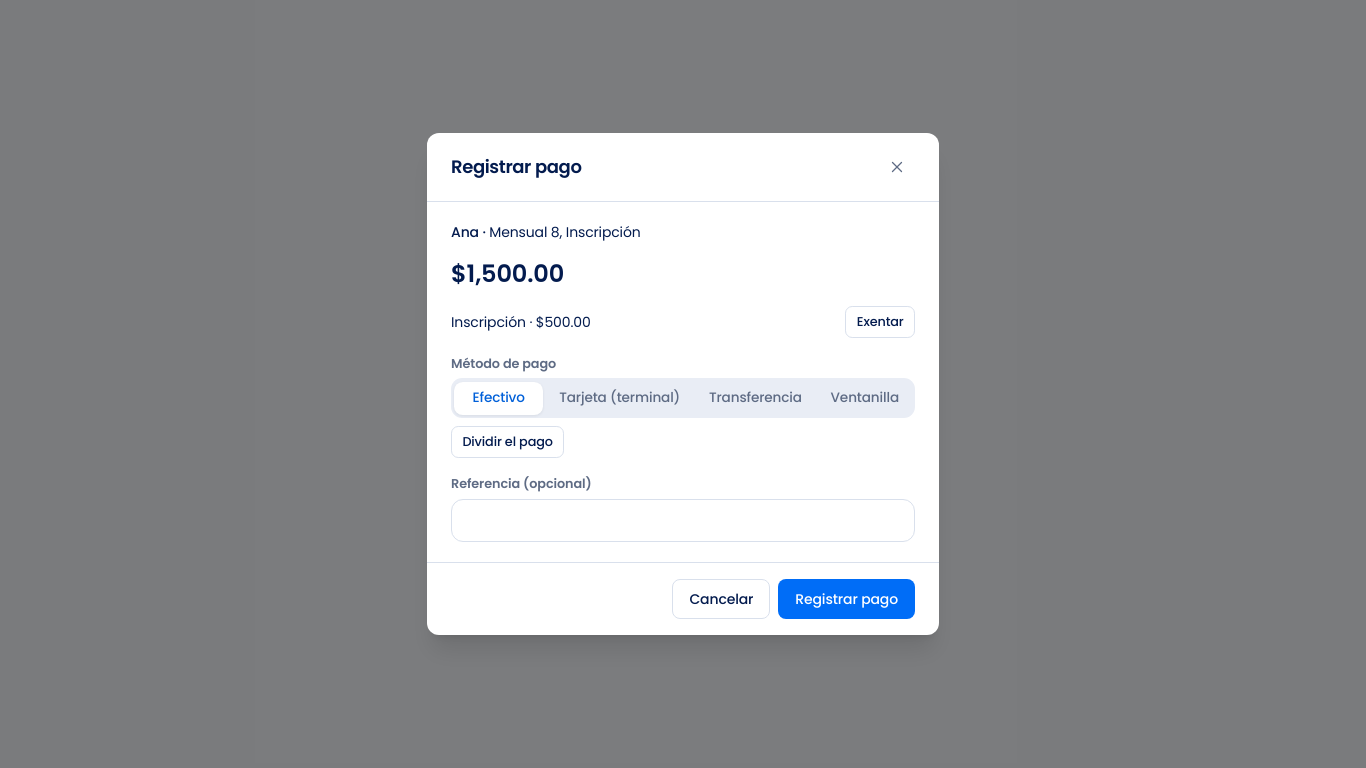
Test case: registrar pago con cuotas › exentar una cuota pide motivo y baja lo que se cobra
Click the button "Exentar": point(880, 322) [846,306,915,338]
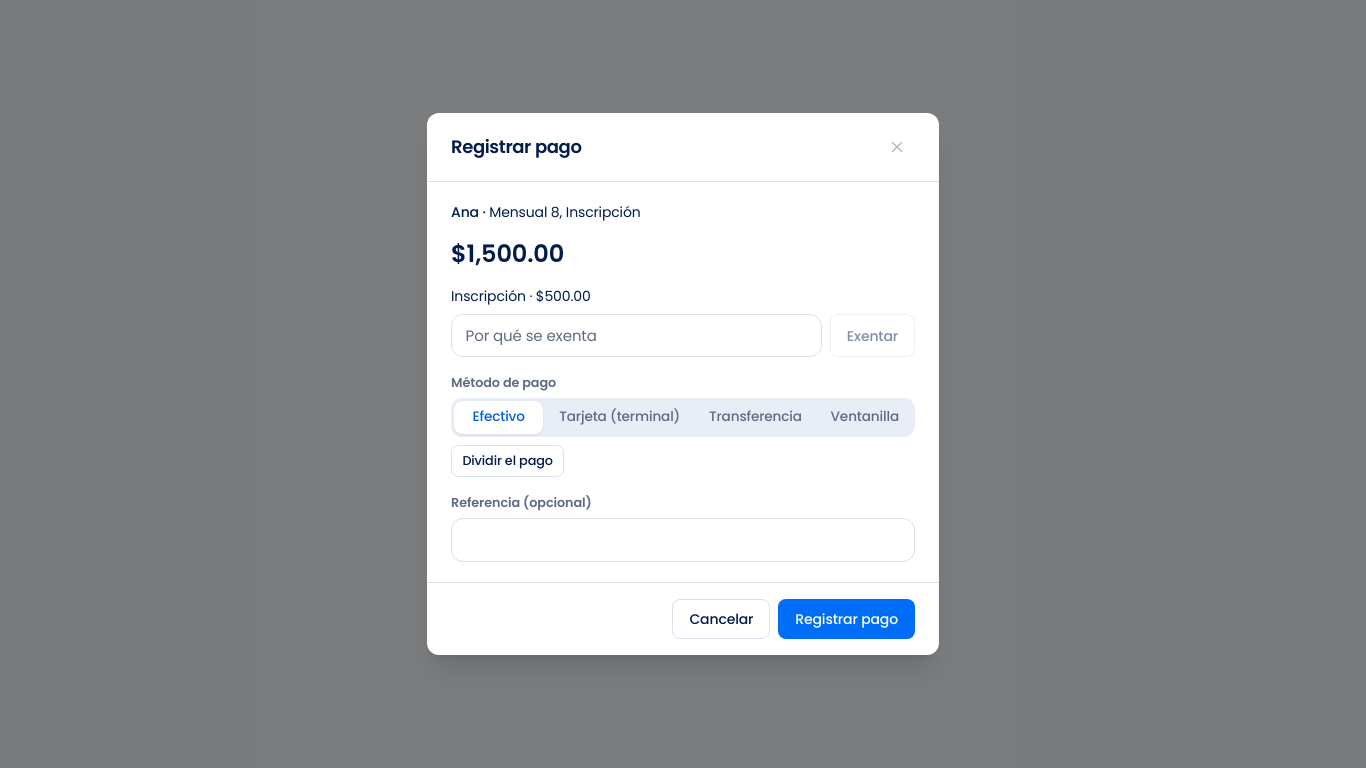
Expected: the button "Exentar" is disabled, [830,314,915,357]
In the field with placeholder "Por qué se exenta": point(636, 336) [451,314,822,357], type "Reingreso pactado"
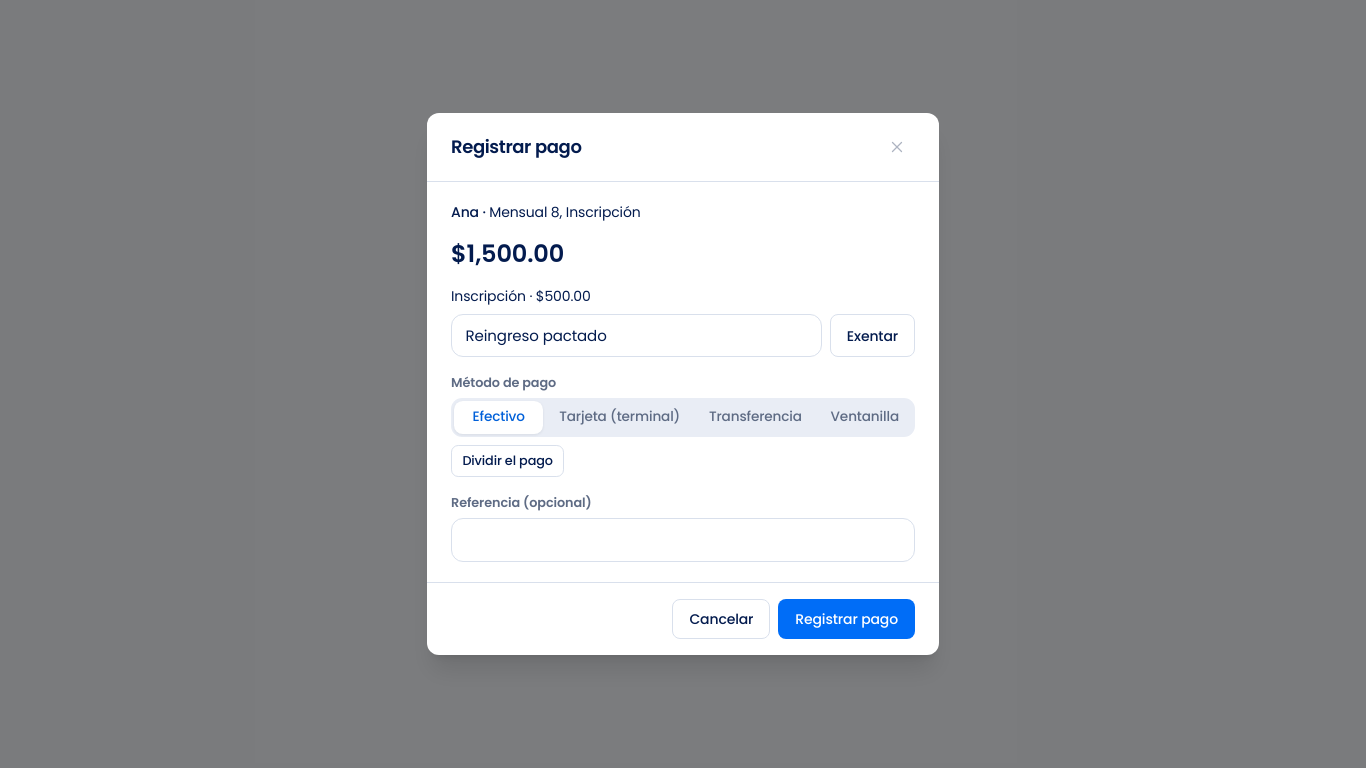
Click the button "Exentar": point(872, 336) [830,314,915,357]
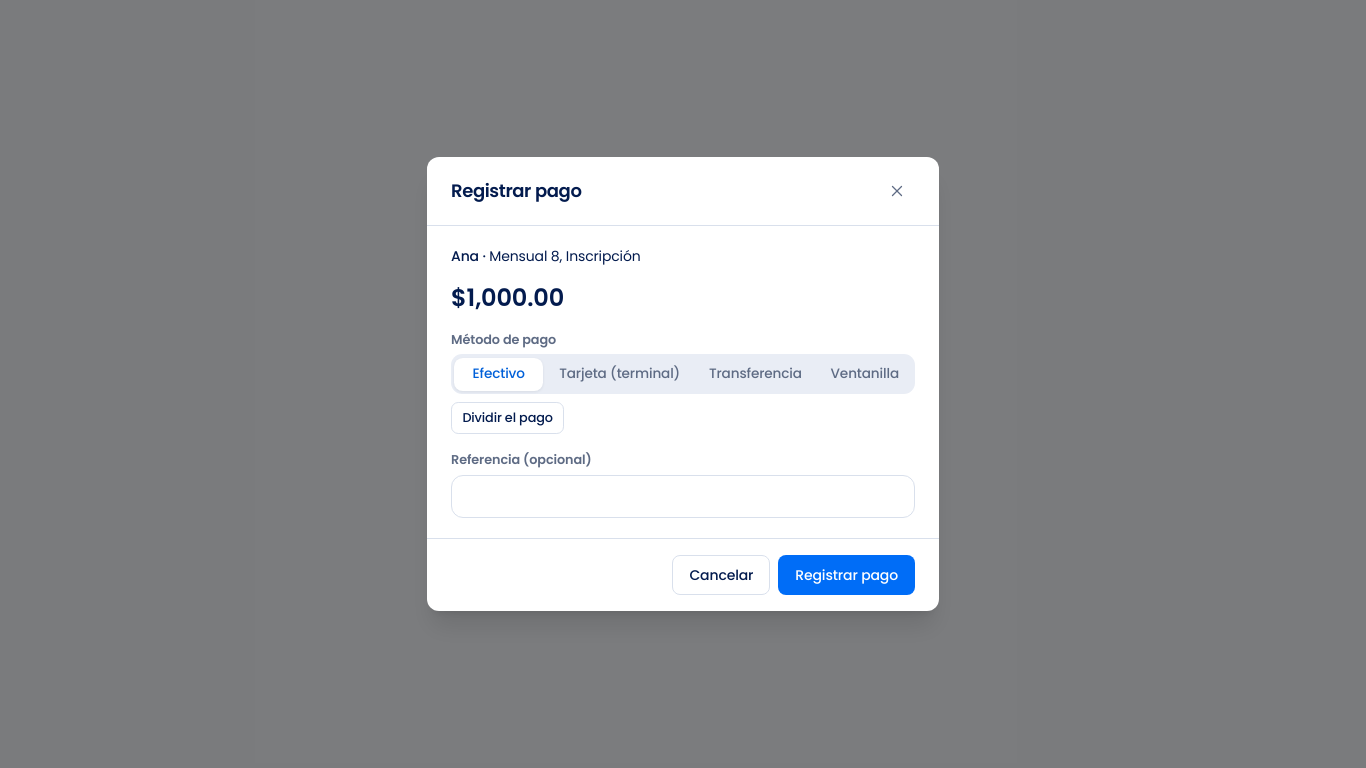
Expected: the text "$1,000.00" is shown, [451,281,564,314]
